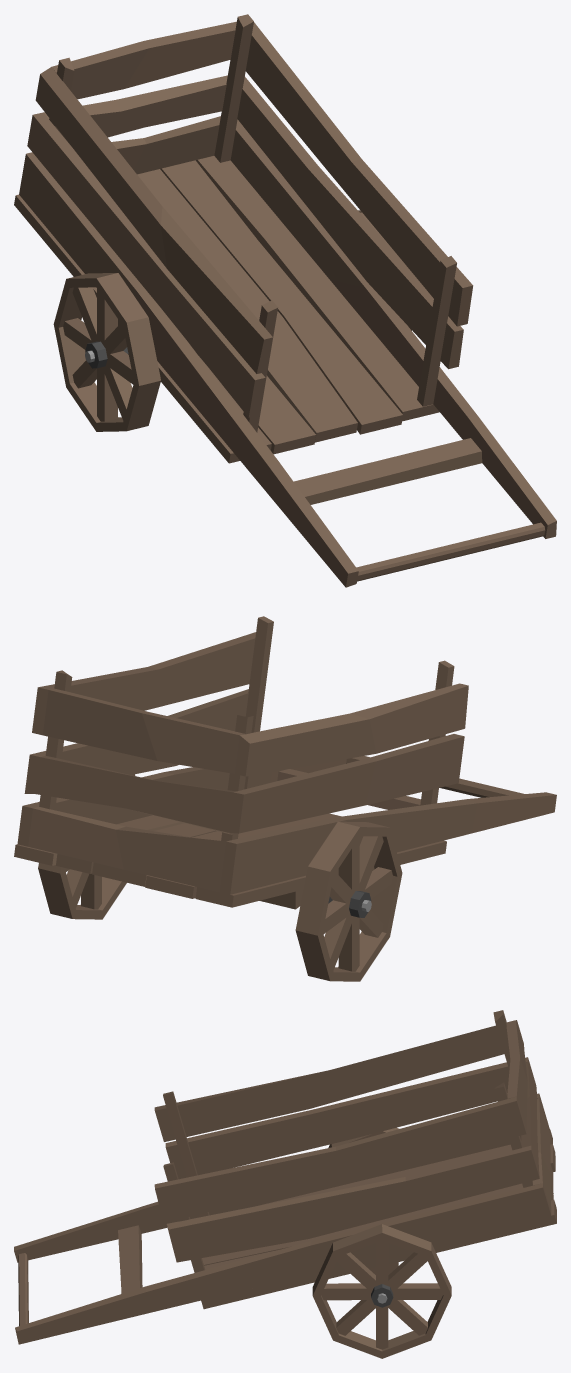
File: Cart_6.fbx
3 renders of one model, top to bottom at view 1: azimuth 30°, elevation 25°; view 2: azimuth 150°, elevation 25°; view 3: azimuth 270°, elevation 25°, orthographic. The views are drawn at different scales.
Visible parts, largest first — view 1: Cart_6; view 2: Cart_6; view 3: Cart_6.
Part boxes in pixels (box(x1,y1,x2,y2)): Cart_6: box(14, 14, 556, 587); Cart_6: box(14, 616, 556, 981); Cart_6: box(14, 1010, 556, 1358).
Bounding box in the file's own units: 168 × 327 × 169.
